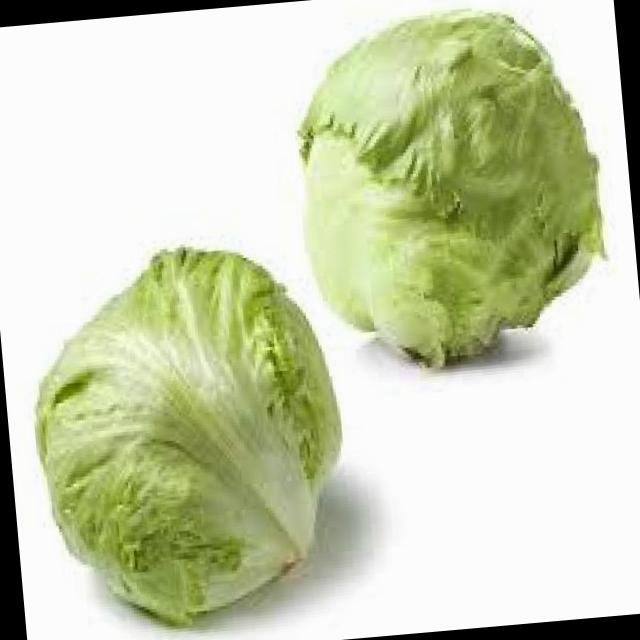Lettuce-Ready-to-Harvest: (36, 248, 340, 623), (299, 11, 601, 365)
